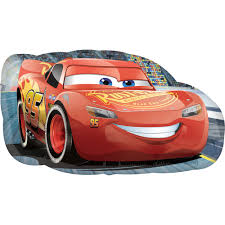mcqueen: (16, 57, 209, 165)
